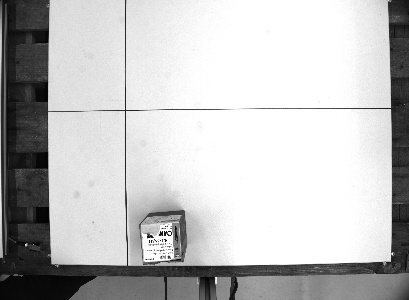b4: (135, 208, 189, 267)
